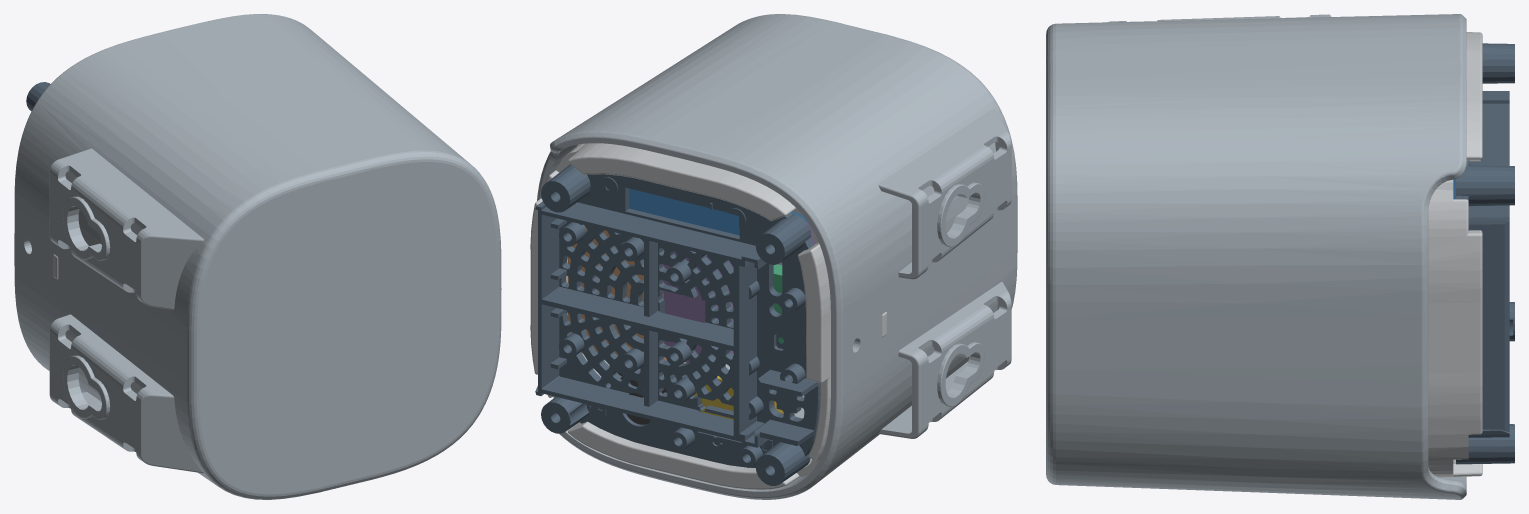
The model's file is modular.glb.
3 renders of one model, left to right at view 1: azimuth 30°, elevation 25°; view 2: azimuth 150°, elevation 25°; view 3: azimuth 270°, elevation 25°, orthographic. The views are drawn at different scales.
Parts seen in each view (by area): view 1: Cover; view 2: Cover, Grill, Base, SPS30, ESP32, SCD30; view 3: Cover, Base, Grill.
Part boxes in pixels (x1,y1,x2,y2): Cover: (14, 14, 501, 499); Cover: (537, 14, 1017, 499); Grill: (535, 164, 819, 485); Base: (530, 143, 886, 489); SPS30: (629, 188, 807, 235); ESP32: (663, 222, 815, 367); SCD30: (568, 225, 667, 360); Cover: (1046, 14, 1466, 499); Base: (1428, 32, 1482, 477); Grill: (1456, 43, 1514, 464).
Size of the model in its own units: 91.49 by 84.97 by 91.3.
